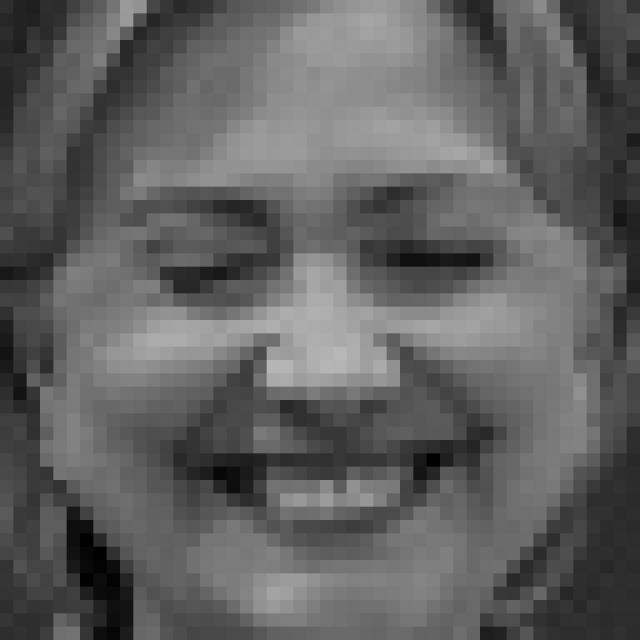happy: (118, 166, 539, 564)
